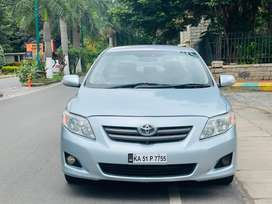KA51P7755: (128, 154, 167, 162)
